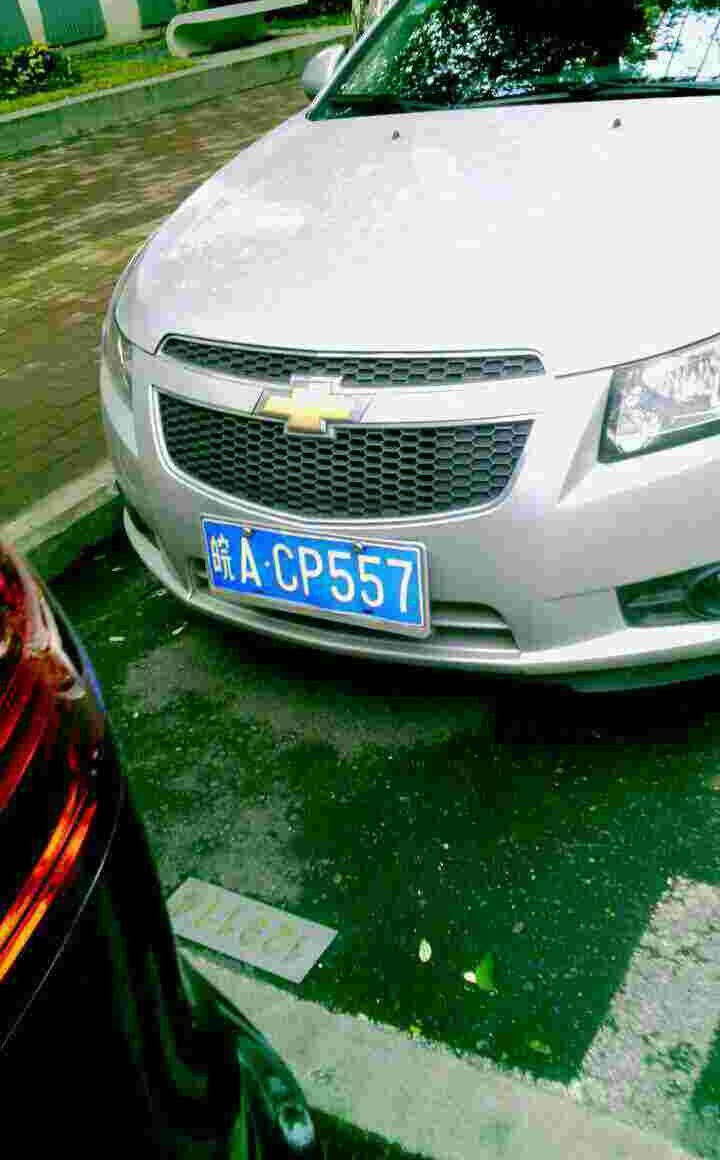license_plate: (206, 519, 435, 633)
